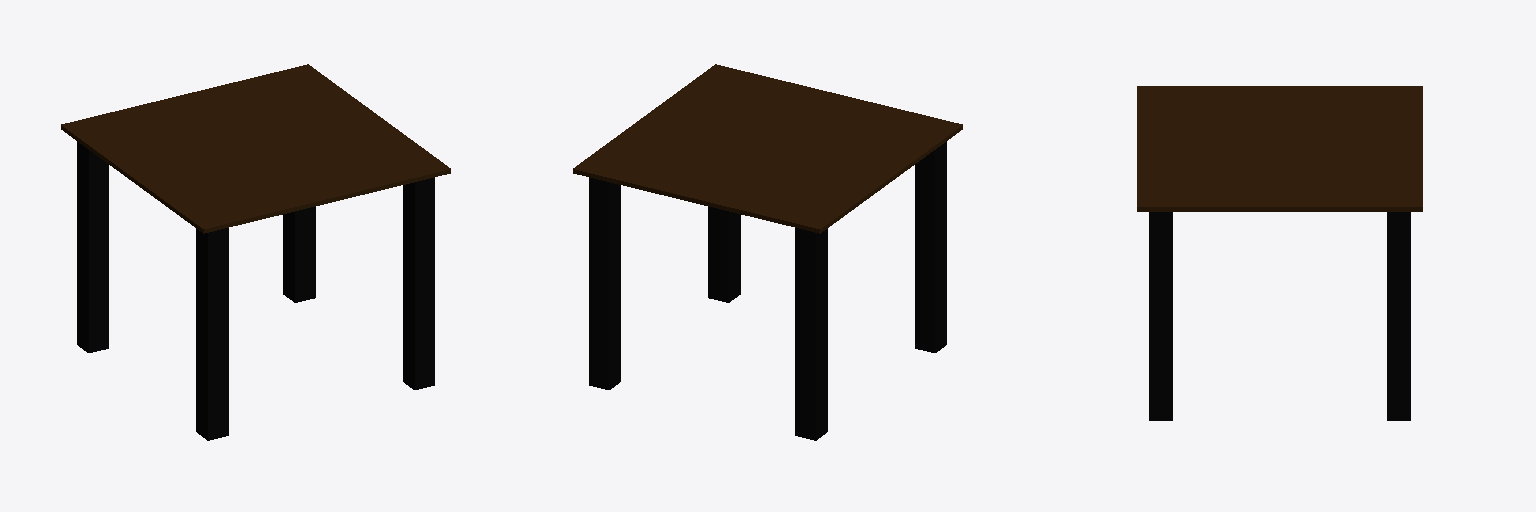
File: Table.obj
3 renders of one model, left to right at view 1: azimuth 30°, elevation 25°; view 2: azimuth 150°, elevation 25°; view 3: azimuth 270°, elevation 25°, orthographic.
Visible parts, largest first — view 1: Cube.017; view 2: Cube.017; view 3: Cube.017.
Boxes of the visible parts, <box> form: Cube.017: <box>61,64,450,440</box>; Cube.017: <box>573,64,962,440</box>; Cube.017: <box>1137,86,1422,420</box>.
Size of the model in its own units: 12 by 10.1 by 12.